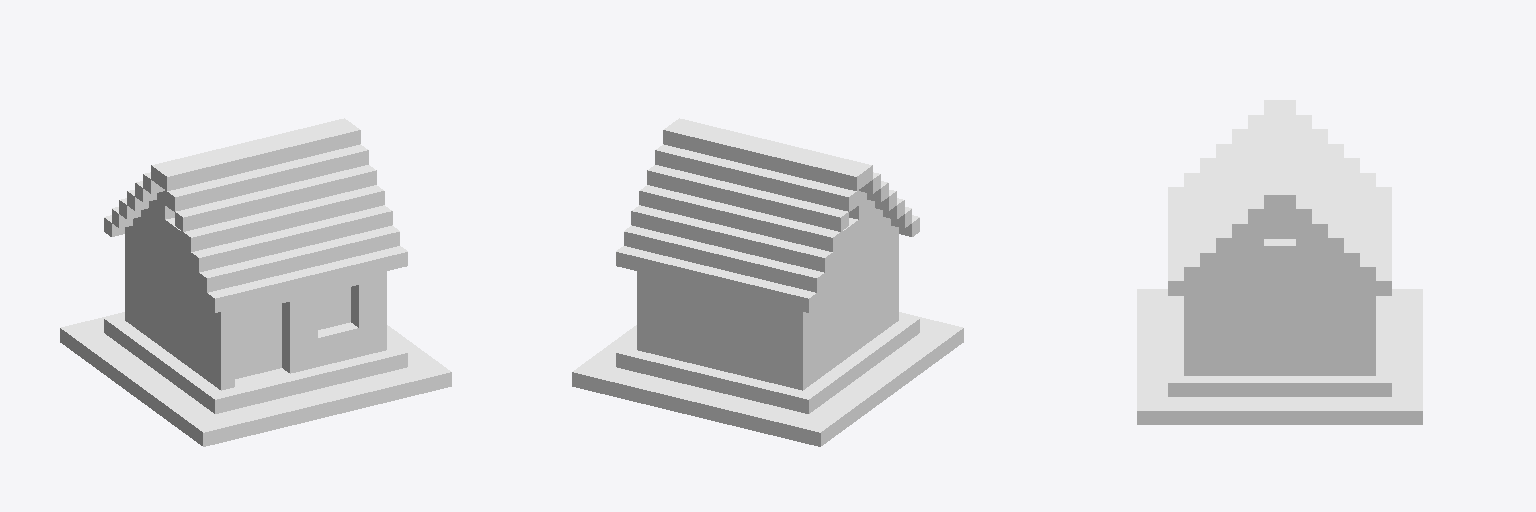
3 views of the same model, side by side, from view 1: azimuth 30°, elevation 25°; view 2: azimuth 150°, elevation 25°; view 3: azimuth 270°, elevation 25° (orthographic).
Visible parts, largest first — view 1: 13; view 2: 13; view 3: 13.
Part boxes in pixels (x1,y1,x2,y2): 13: (60, 118, 451, 446); 13: (572, 118, 963, 446); 13: (1137, 100, 1422, 424).
Bounding box in the file's own units: 18 × 15 × 18.
Materials: 1 (1 with a texture image).